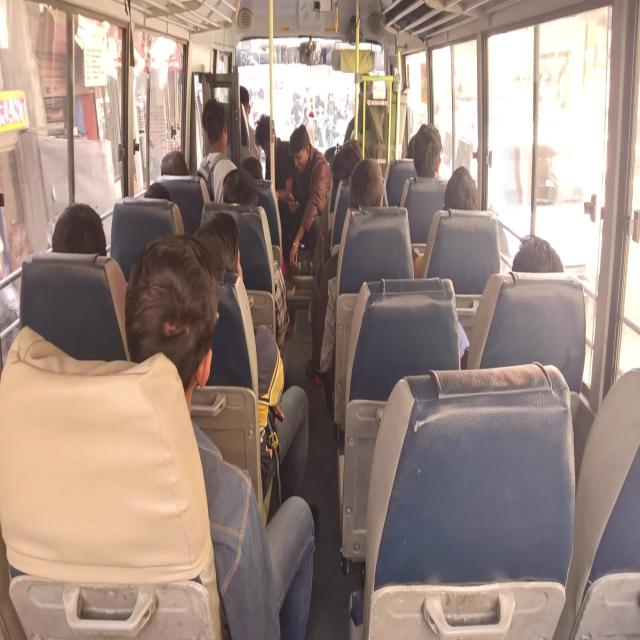person: (124, 232, 315, 638), (192, 211, 310, 503), (305, 158, 388, 415), (221, 167, 290, 371), (283, 124, 332, 271), (197, 98, 237, 203), (254, 113, 294, 203), (51, 202, 107, 256), (511, 233, 564, 273), (409, 123, 443, 179), (240, 85, 262, 162), (443, 165, 478, 211), (160, 150, 190, 176), (143, 182, 171, 200)
